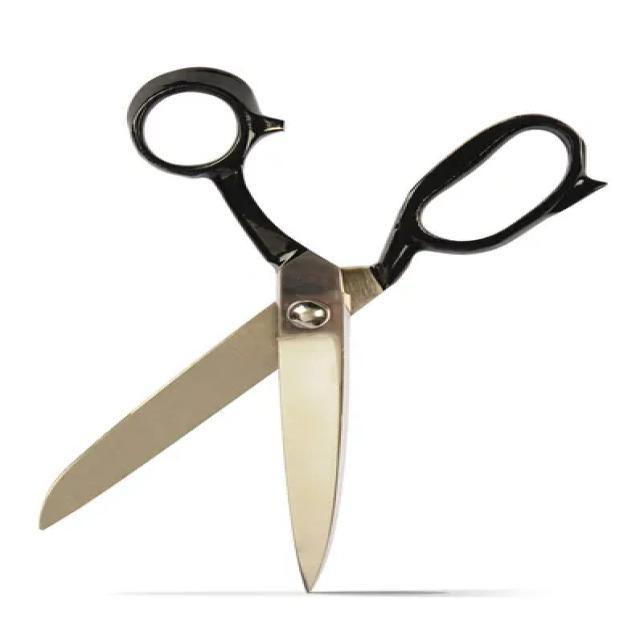tesoura: (24, 58, 606, 592)
